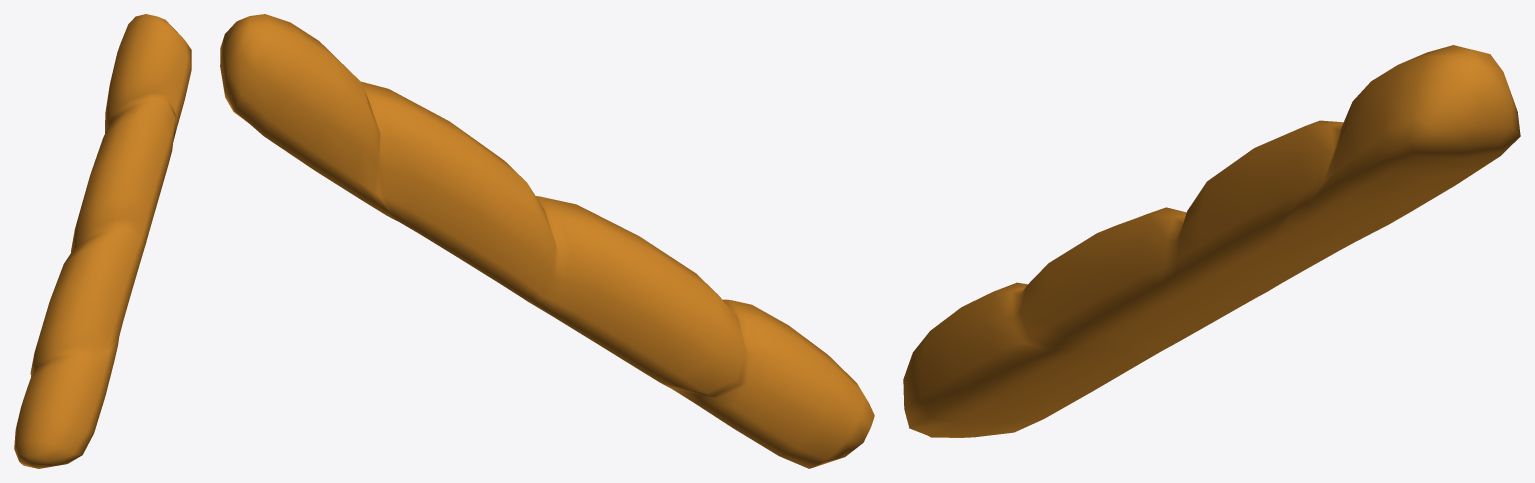
The model's file is SM_Baguette.fbx.
3 renders of one model, left to right at view 1: azimuth 30°, elevation 25°; view 2: azimuth 150°, elevation 25°; view 3: azimuth 270°, elevation 25°, orthographic. The views are drawn at different scales.
Visible parts, largest first — view 1: Baguette.001; view 2: Baguette.001; view 3: Baguette.001.
Boxes of the visible parts, x1=… form: Baguette.001: x1=14, y1=14, x2=191, y2=468; Baguette.001: x1=220, y1=14, x2=874, y2=468; Baguette.001: x1=903, y1=45, x2=1520, y2=437.
Size of the model in its own units: 89.88 by 91.12 by 83.75.
